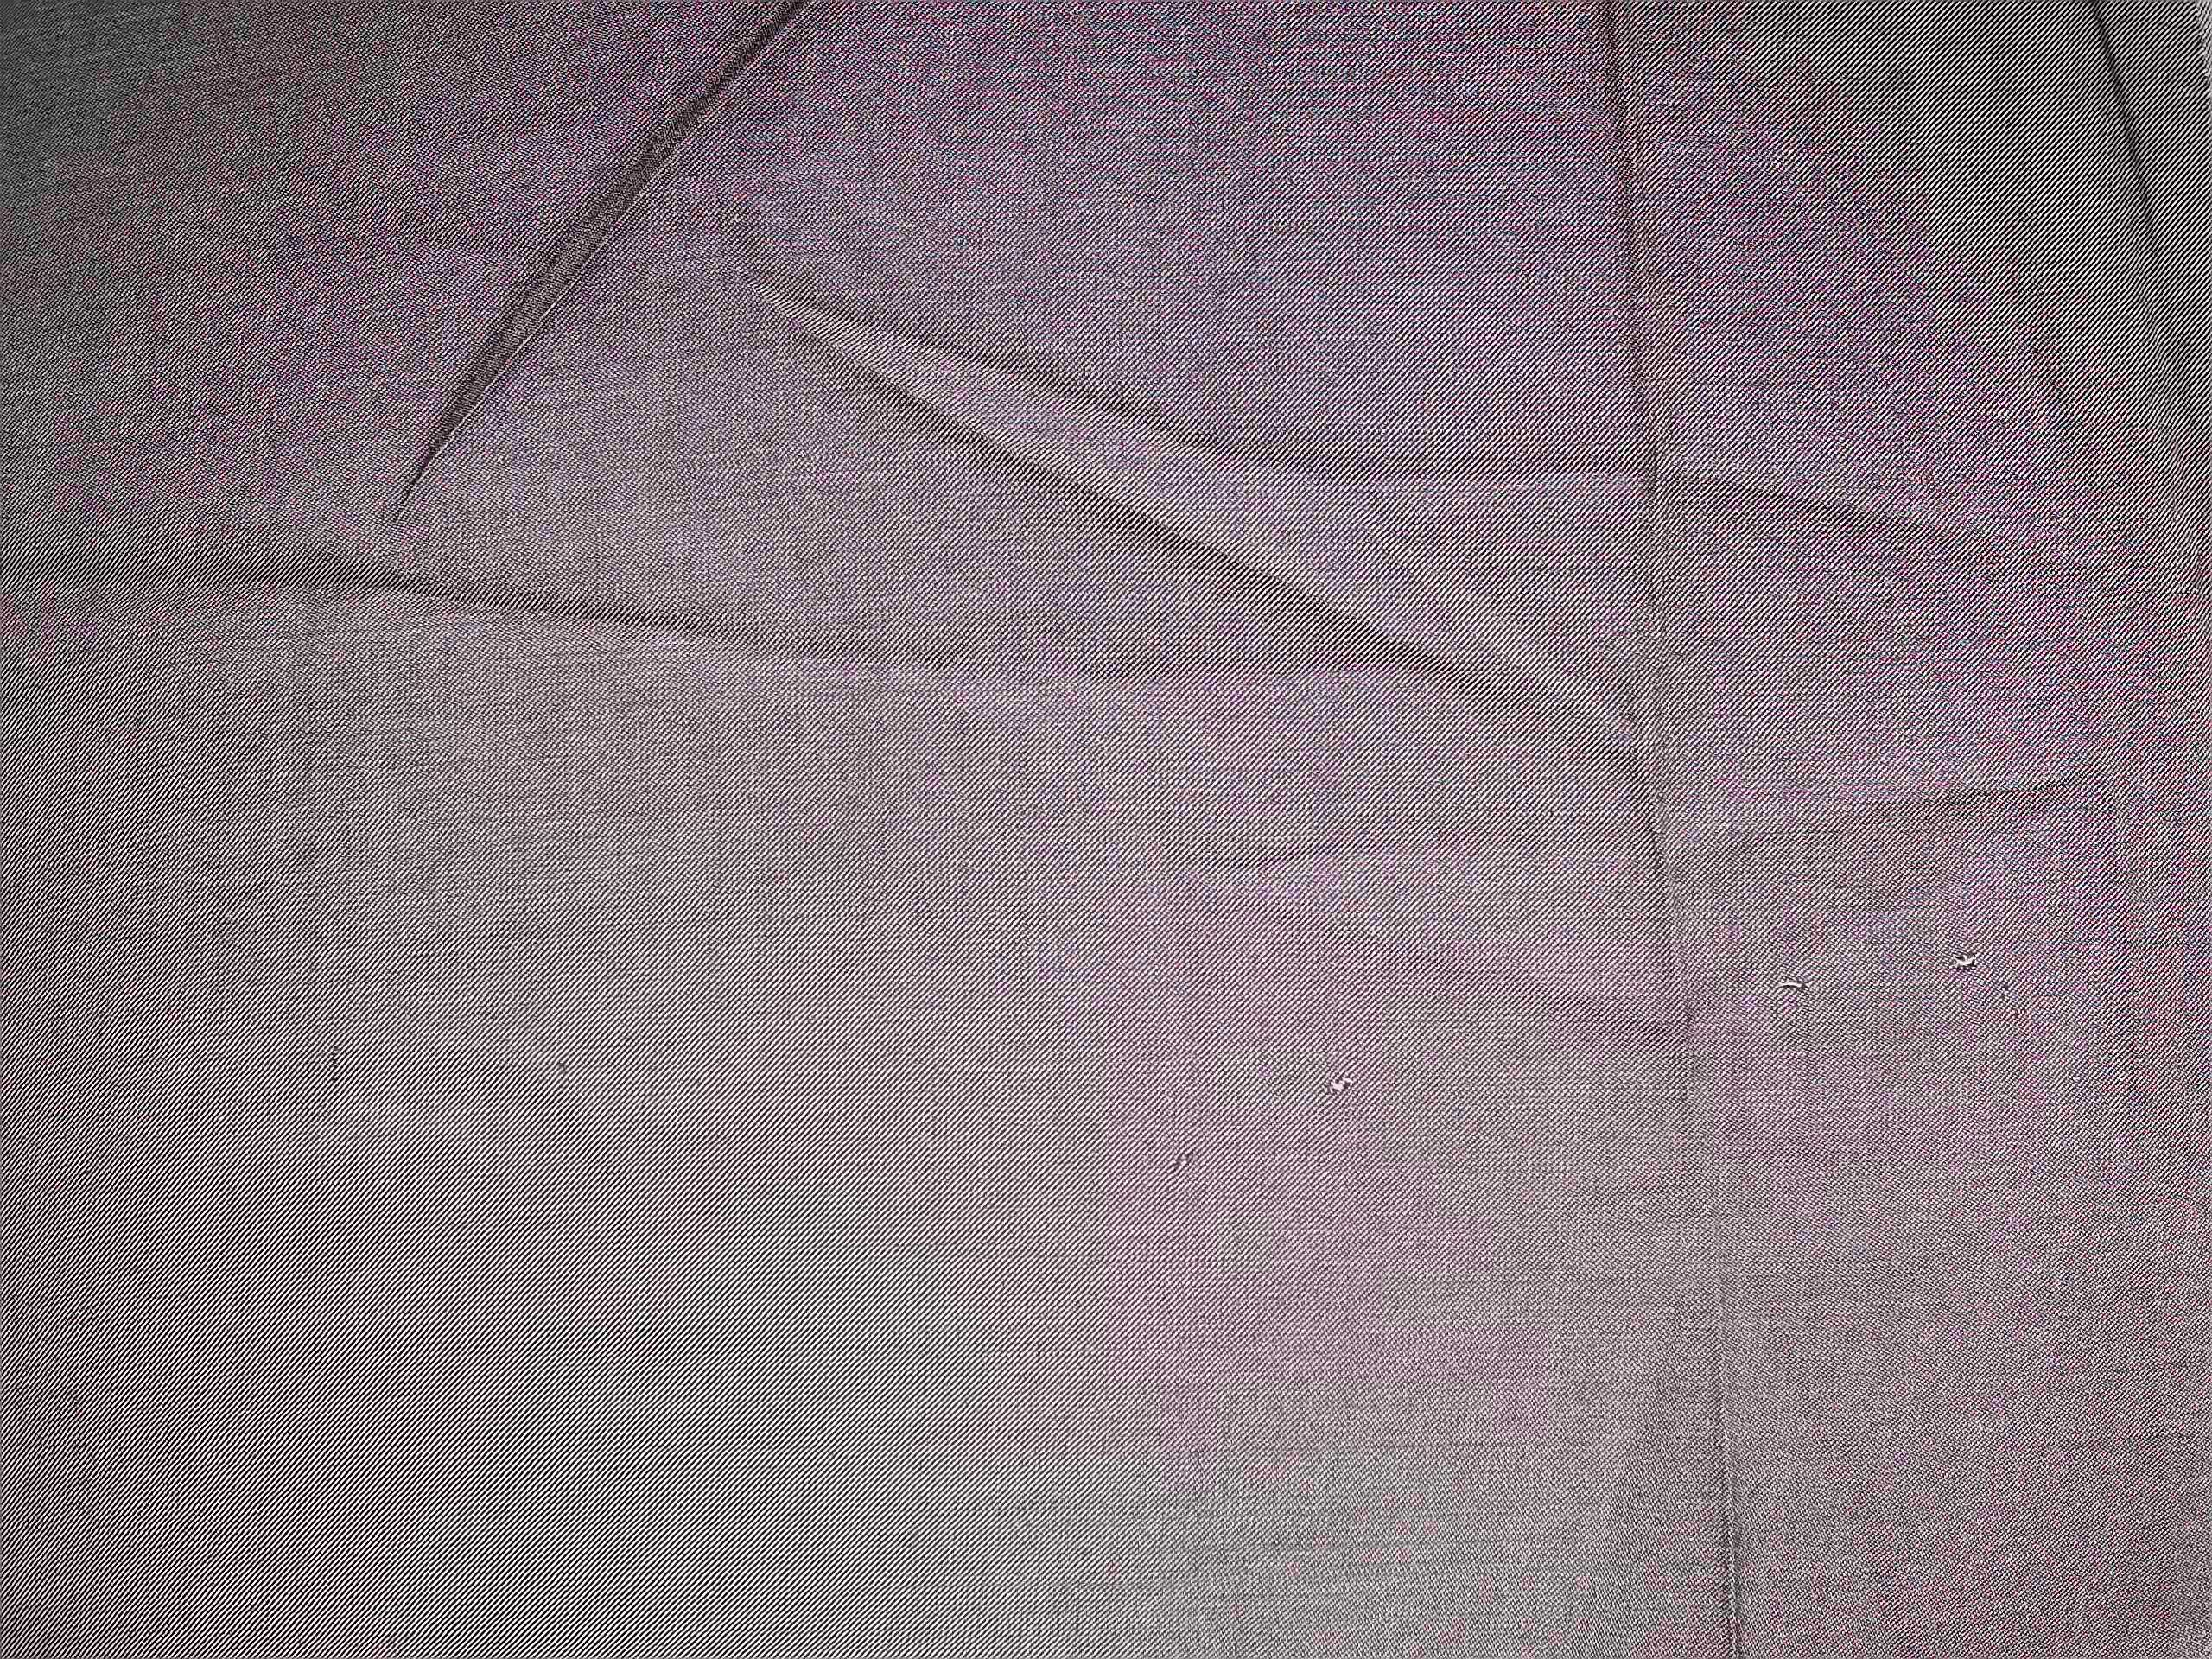rubbing-hole: (1771, 964, 1817, 1006), (1320, 1065, 1362, 1108), (1996, 979, 2031, 1028), (1162, 1141, 1200, 1182), (1951, 941, 1986, 978)
